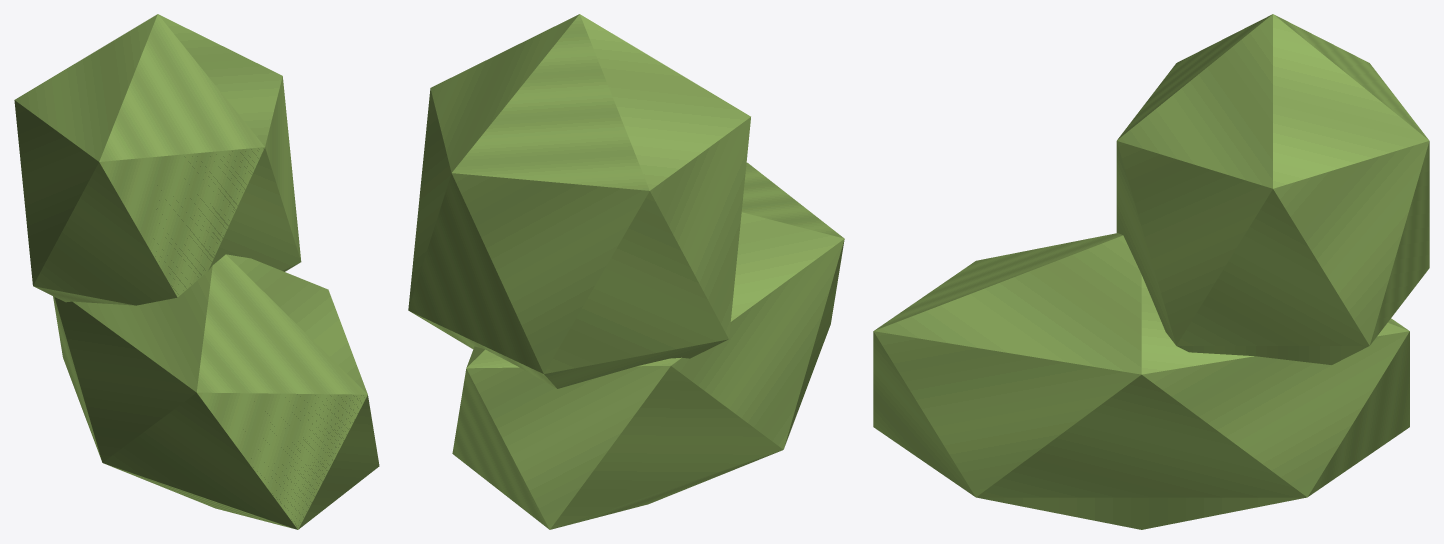
File: rebound_charge.glb
3 views of the same model, side by side, from view 1: azimuth 30°, elevation 25°; view 2: azimuth 150°, elevation 25°; view 3: azimuth 270°, elevation 25° (orthographic). The views are drawn at different scales.
Visible parts, largest first — view 1: gear_rebound_charge; view 2: gear_rebound_charge; view 3: gear_rebound_charge.
Boxes of the visible parts, left/top/right/bottom form: gear_rebound_charge: left=14, top=14, right=379, bottom=529; gear_rebound_charge: left=408, top=14, right=844, bottom=529; gear_rebound_charge: left=873, top=14, right=1429, bottom=529.
Size of the model in its own units: 0.1878 by 0.325 by 0.3174.
Materials: 1 (1 with a texture image).
